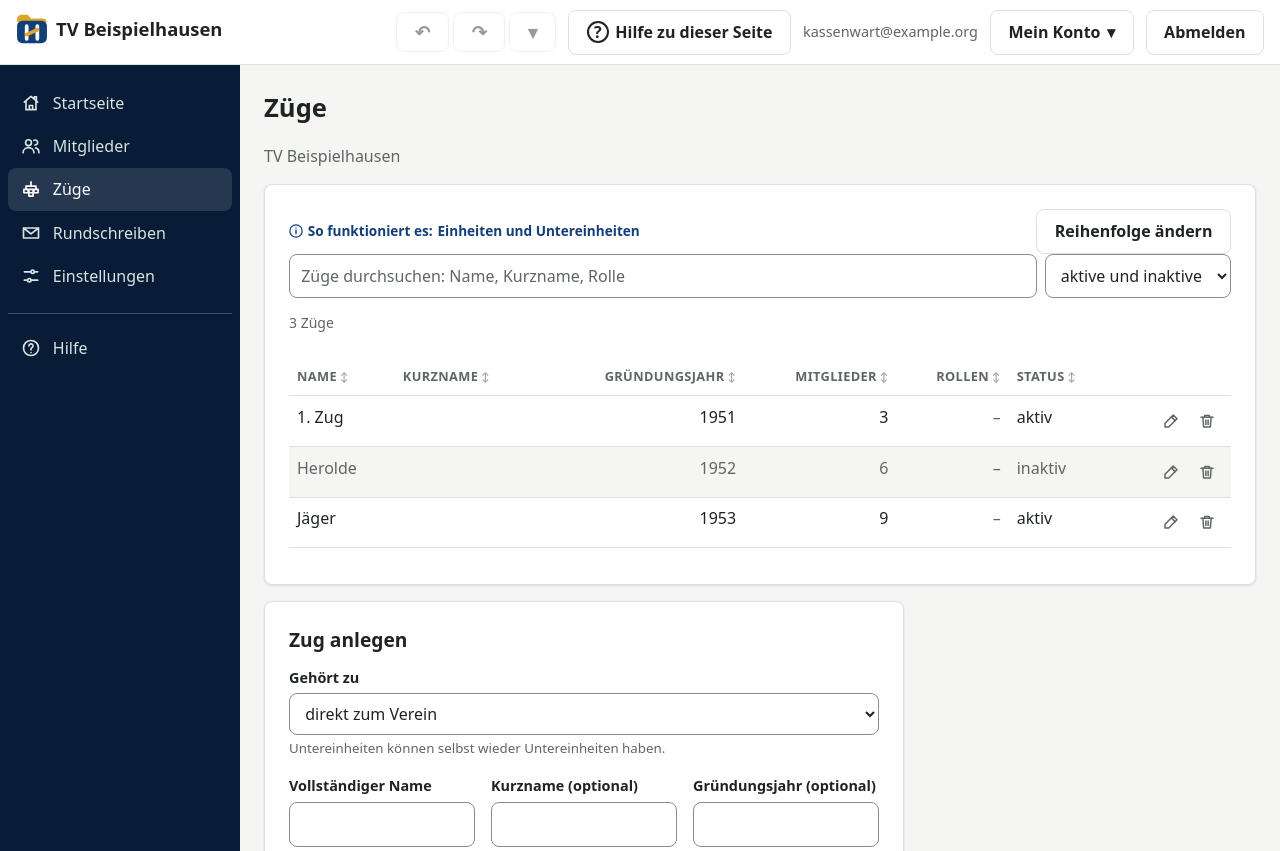
Test: Züge als Tabelle › löscht nach Rückfrage im App-Dialog
Click the button named "Jäger löschen" at (1207, 522), box 1191,506 -> 1223,538
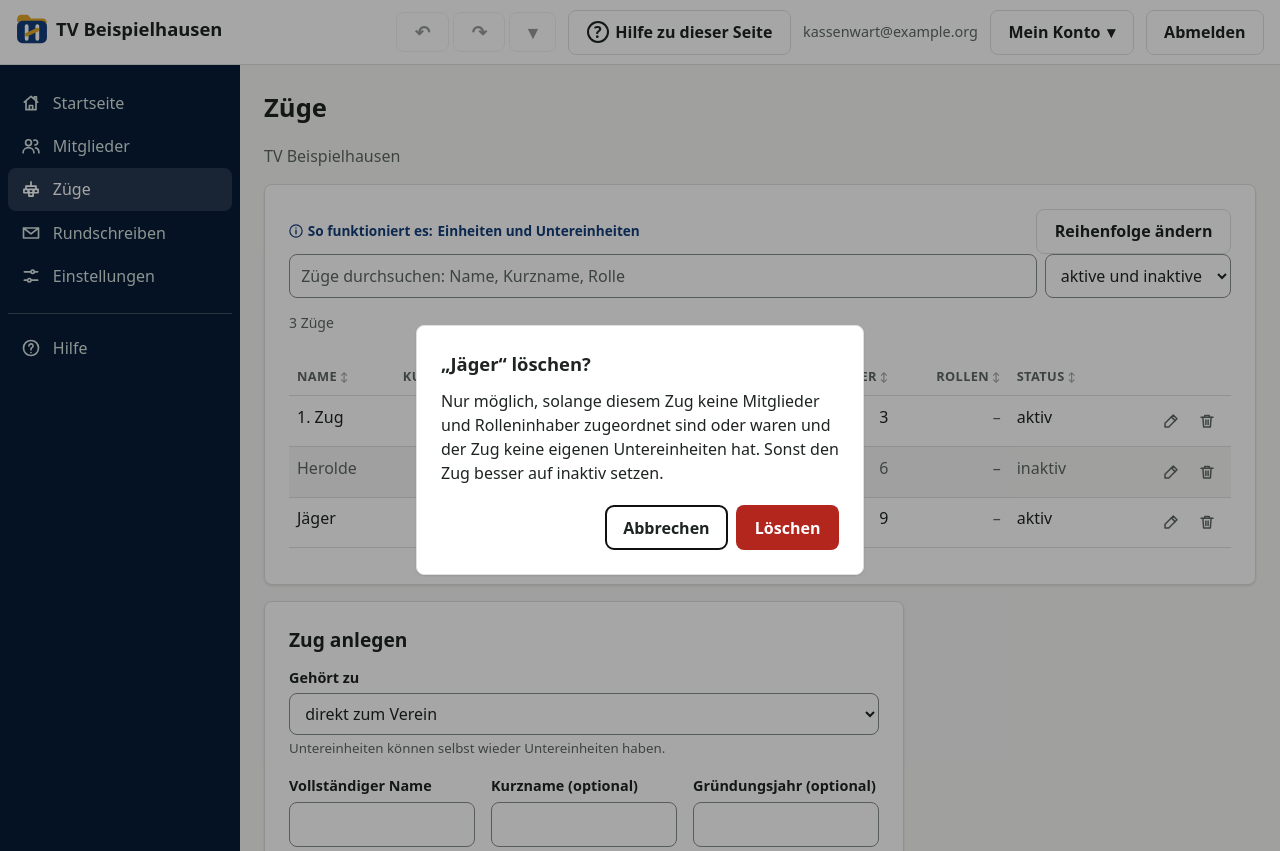
Result: the dialog "„Jäger“ löschen?" shows "diesem Zug" at 441,390 -> 839,484
Click the button "Löschen" at (788, 528), box 736,505 -> 839,550
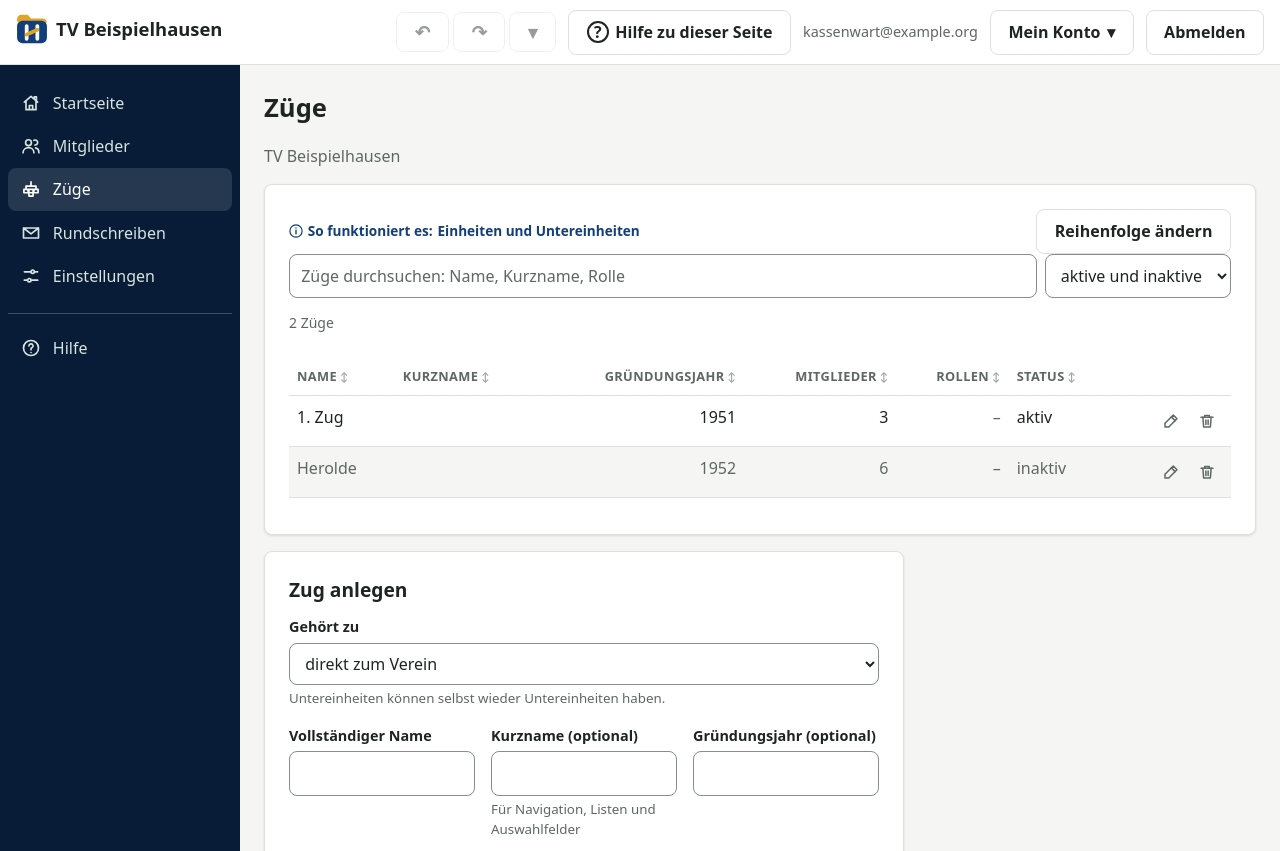
Result: the text "Jäger" is gone
